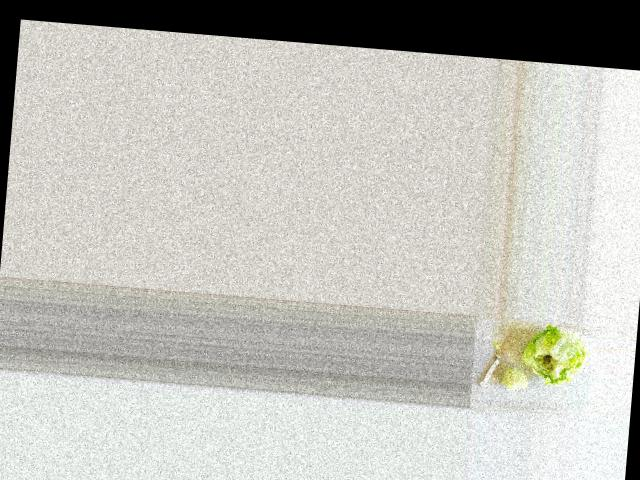lettuce: (526, 326, 593, 387)
